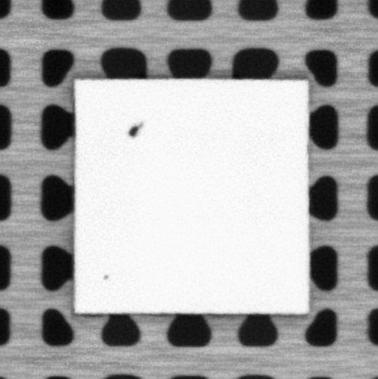DIE_INK: (128, 120, 144, 139), (102, 273, 111, 283)
